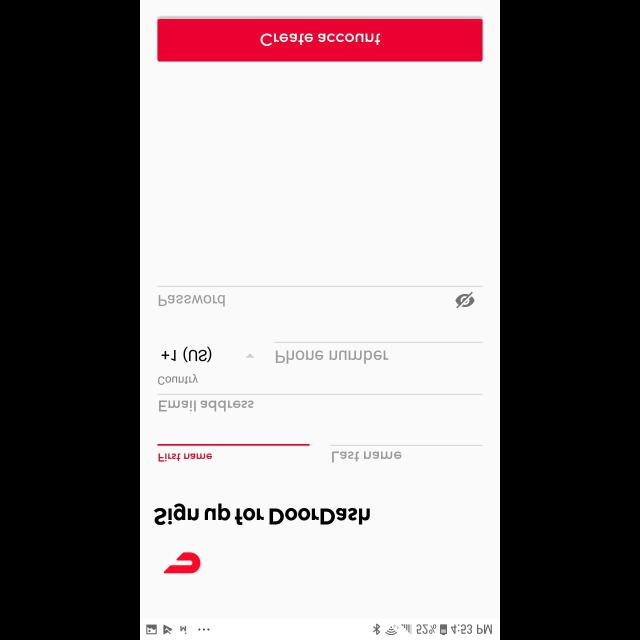icon: (455, 292, 475, 308), (246, 354, 254, 358)
image: (164, 551, 202, 573)
input: (158, 286, 482, 308), (158, 392, 482, 412), (275, 341, 483, 364), (331, 444, 483, 462), (158, 443, 310, 461)
text: (154, 503, 370, 525), (276, 350, 388, 364), (158, 400, 254, 412), (158, 295, 226, 307), (162, 346, 212, 362), (332, 452, 402, 462), (158, 374, 198, 386), (159, 453, 213, 461)
textbutton: (158, 18, 482, 62)
uppertaskbar: (140, 618, 500, 640)
